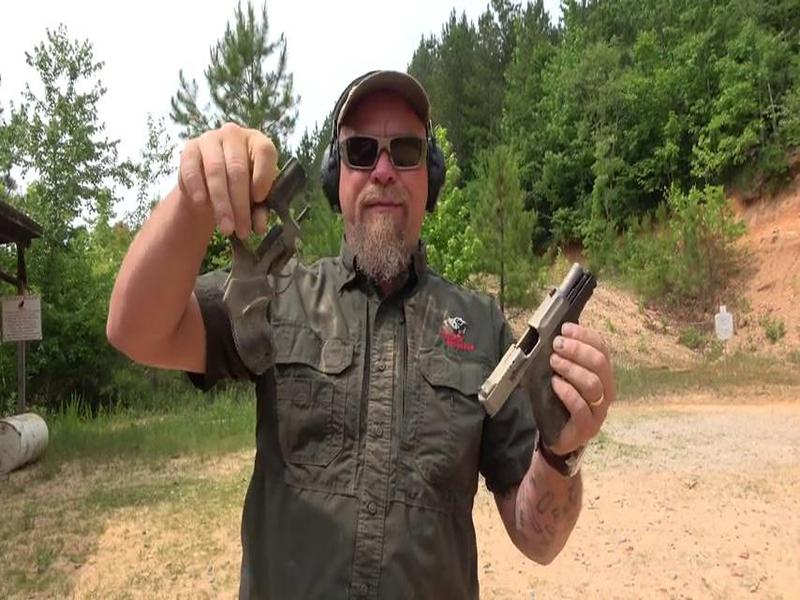Pistola: (473, 244, 627, 475)
Revolver: (203, 146, 345, 384)
